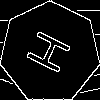H: (25, 27, 81, 81)
